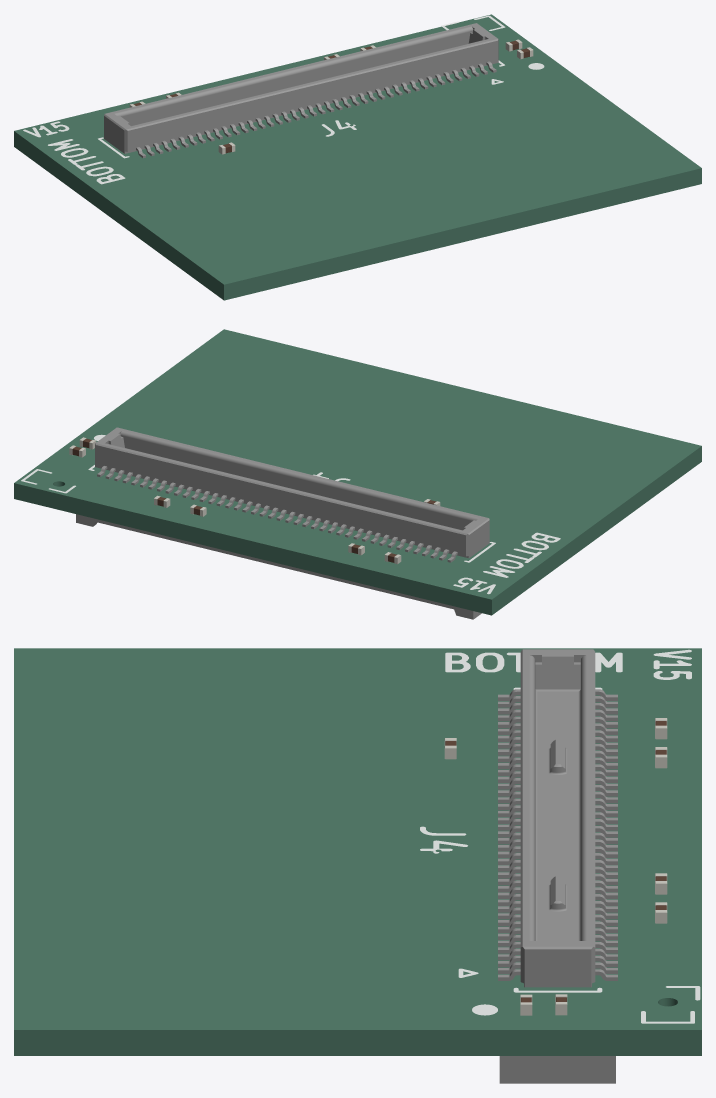
The model's file is optb-asic-bottom-v15.glb.
3 renders of one model, top to bottom at view 1: azimuth 30°, elevation 25°; view 2: azimuth 150°, elevation 25°; view 3: azimuth 270°, elevation 25°, orthographic. The views are drawn at different scales.
Parts seen in each view (by area): view 1: =>[0:1:1:10], =>[0:1:1:5], =>[0:1:1:8]; view 2: =>[0:1:1:10], =>[0:1:1:5], =>[0:1:1:7], =>[0:1:1:8]; view 3: =>[0:1:1:10], =>[0:1:1:5], =>[0:1:1:8], =>[0:1:1:7].
Part boxes in pixels (x1,y1,x2,y2): =>[0:1:1:10]: [14, 14, 701, 300]; =>[0:1:1:5]: [104, 23, 498, 158]; =>[0:1:1:8]: [23, 15, 544, 184]; =>[0:1:1:10]: [14, 329, 701, 615]; =>[0:1:1:5]: [95, 427, 489, 562]; =>[0:1:1:7]: [76, 514, 481, 619]; =>[0:1:1:8]: [21, 434, 560, 594]; =>[0:1:1:10]: [14, 648, 701, 1055]; =>[0:1:1:5]: [498, 649, 617, 987]; =>[0:1:1:8]: [420, 649, 700, 1023]; =>[0:1:1:7]: [499, 1056, 615, 1083].
Bounding box in the file's own units: 0.0224 × 0.00347 × 0.017.
